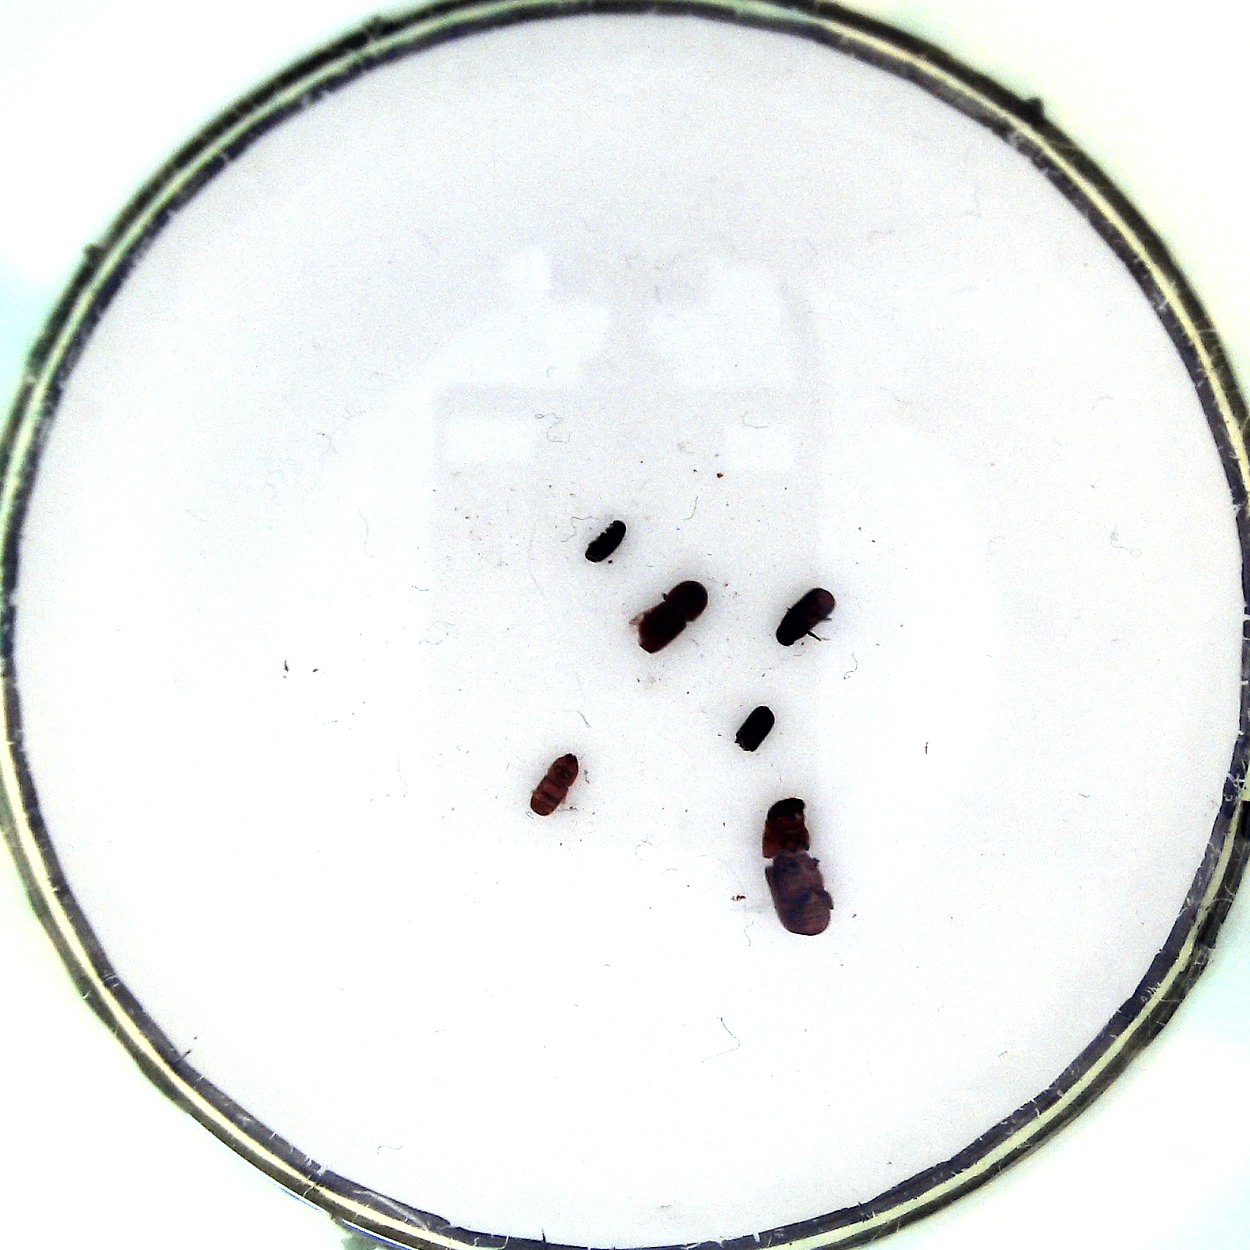Leconte: (762, 792, 841, 937)
Linnaeus: (628, 577, 714, 659)
acuminatus: (527, 751, 582, 823)
armandi: (772, 582, 837, 652)
coleoptera: (734, 701, 775, 764), (585, 514, 627, 573)
